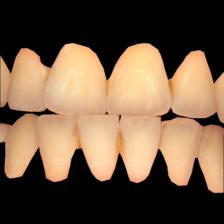cavity: (116, 129, 128, 157), (72, 126, 85, 148), (46, 67, 58, 85), (167, 78, 178, 97), (105, 79, 113, 101), (162, 125, 168, 148)
tooth: (106, 44, 170, 116), (48, 45, 106, 115), (172, 51, 218, 118), (78, 116, 125, 180), (124, 118, 164, 182), (165, 120, 203, 187), (37, 114, 74, 181), (4, 115, 40, 180), (13, 48, 48, 112), (202, 124, 224, 193)
